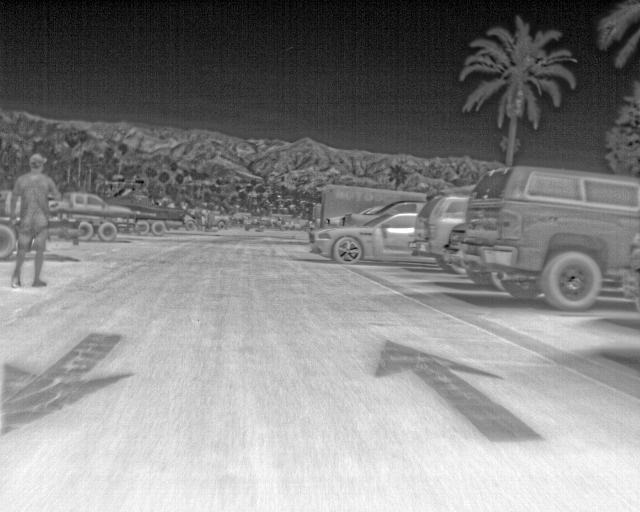bicycle: (464, 164, 639, 312), (306, 209, 419, 265), (411, 193, 473, 259), (49, 190, 132, 216), (338, 200, 425, 224), (442, 222, 469, 270)
empty: (3, 154, 63, 290)
